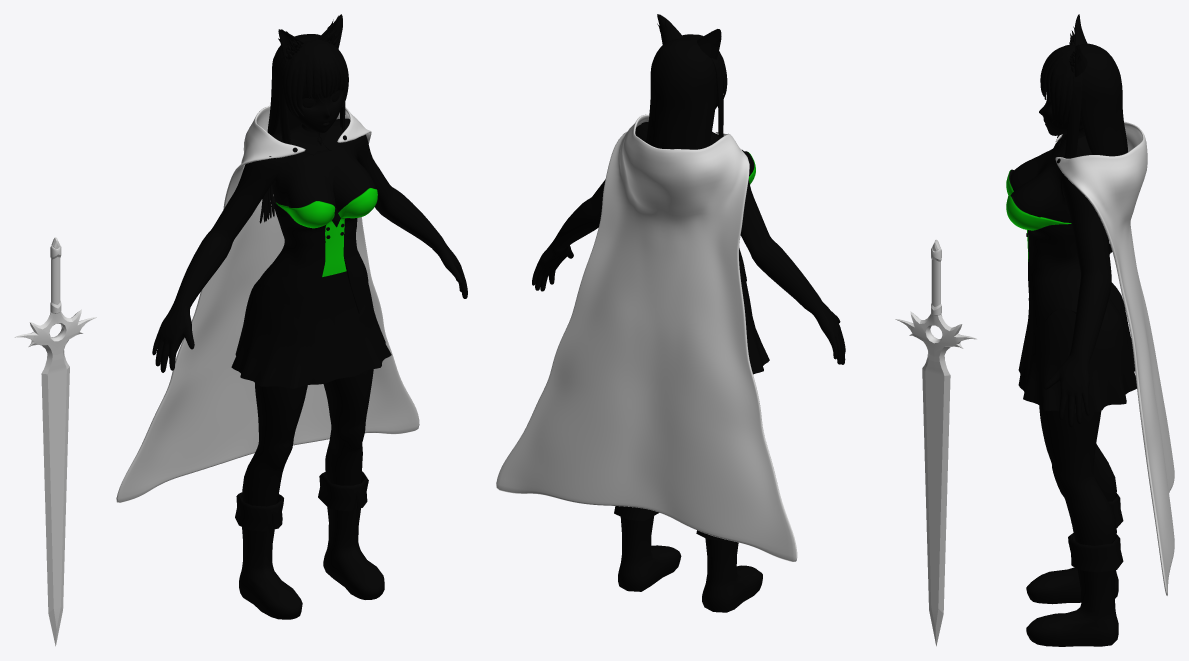
File: LF_CC_cape sep.fbx
The picture shows the model from 3 angles, left to right: view 1: azimuth 30°, elevation 25°; view 2: azimuth 150°, elevation 25°; view 3: azimuth 270°, elevation 25°; orthographic projection. The views are drawn at different scales.
Parts seen in each view (by area): view 1: polySurface91, polySurface69, sword; view 2: polySurface69, polySurface91, sword; view 3: polySurface91, polySurface69.
Boxes of the visible parts, <box> form: polySurface91: <box>152,14,467,619</box>; polySurface69: <box>116,105,419,502</box>; sword: <box>14,237,96,646</box>; polySurface69: <box>496,114,797,561</box>; polySurface91: <box>532,14,845,612</box>; sword: <box>895,239,976,646</box>; polySurface91: <box>1006,14,1136,646</box>; polySurface69: <box>1055,121,1174,595</box>.
Size of the model in its own units: 126 by 153 by 39.82.
